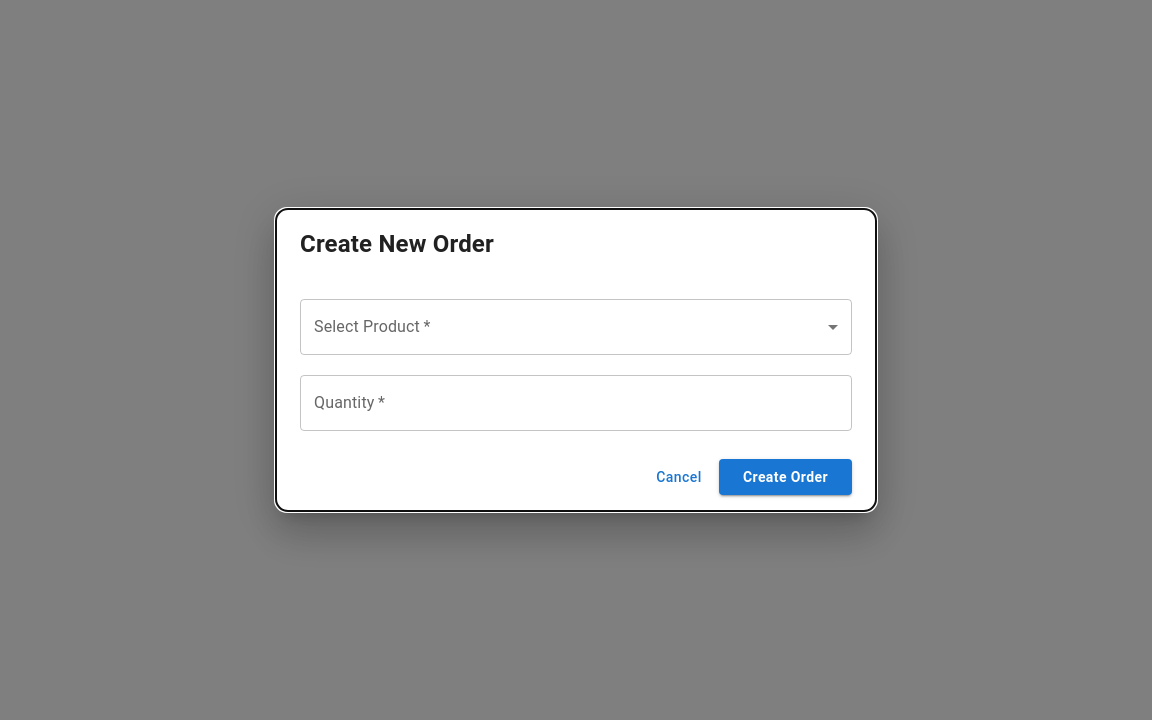
Test: OrderFormDialog Component › calculates total price correctly
Step 1. Click the dropdown named "select product" → (576, 327), box top-left (300, 299), bottom-right (852, 355)
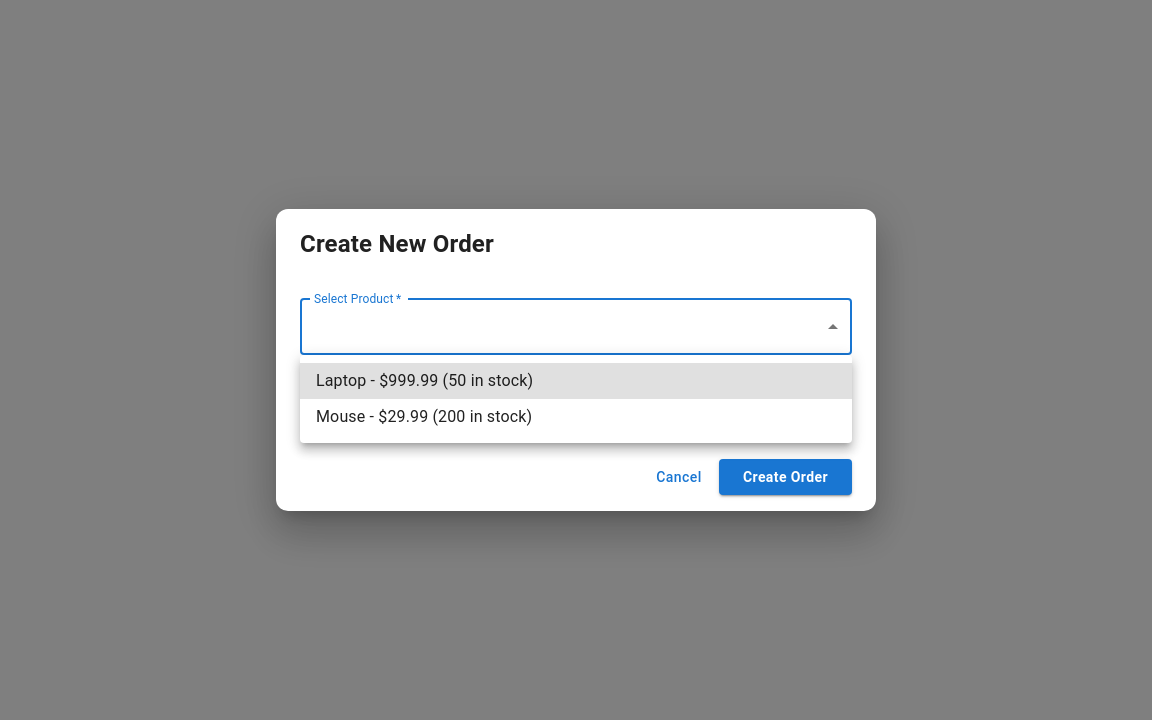
Step 2. Click the option "Laptop - $999.99 (50 in stock)" → (341, 380), box top-left (300, 363), bottom-right (852, 399)
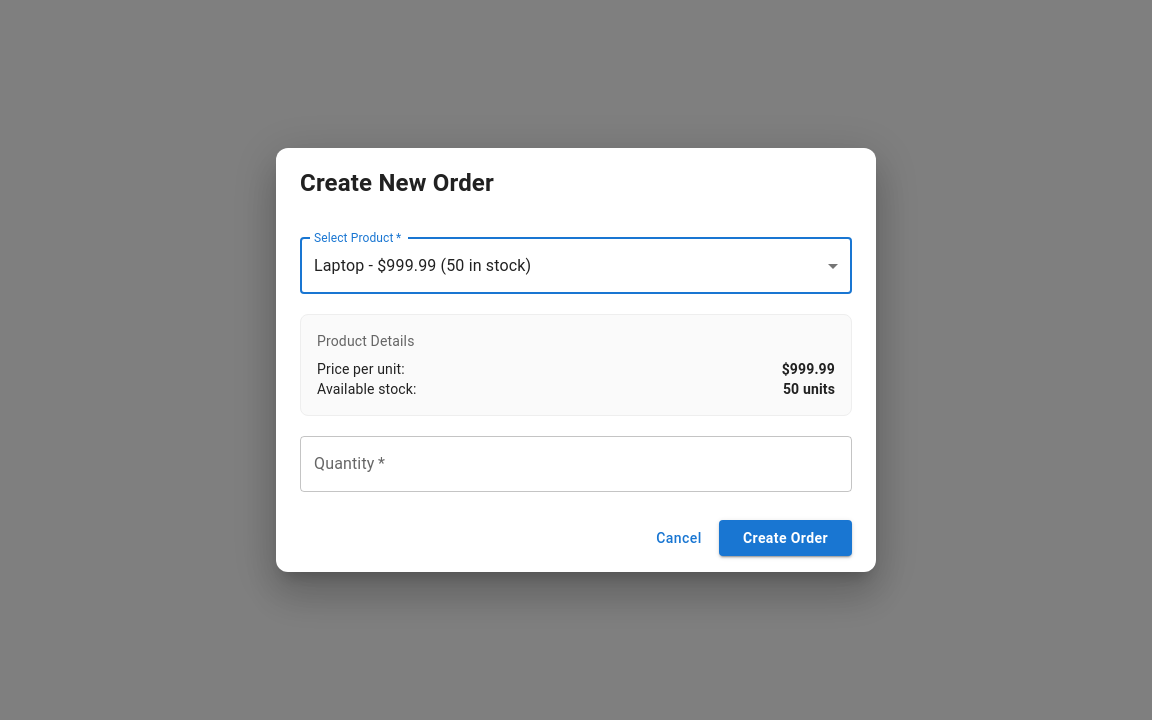
Step 3. Type "2" into the number field labelled "Quantity *" → (576, 464), box top-left (300, 436), bottom-right (852, 492)
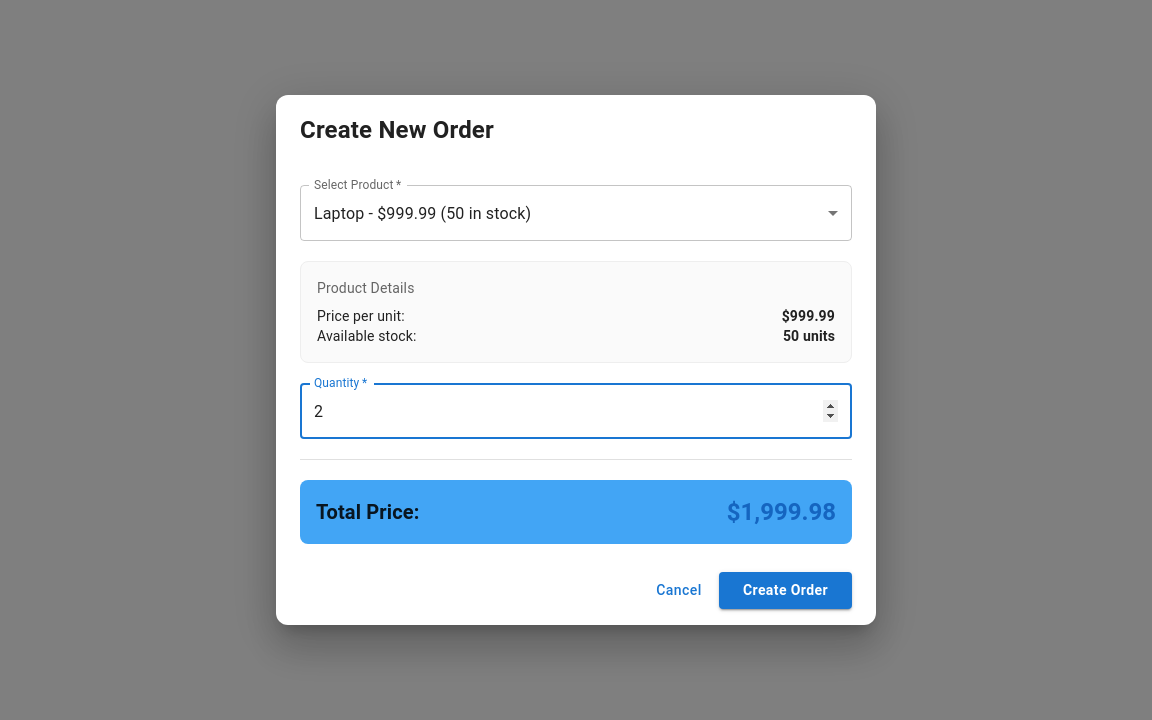
Expected: the heading "$1,999.98" is shown, top-left (727, 496), bottom-right (836, 528)
